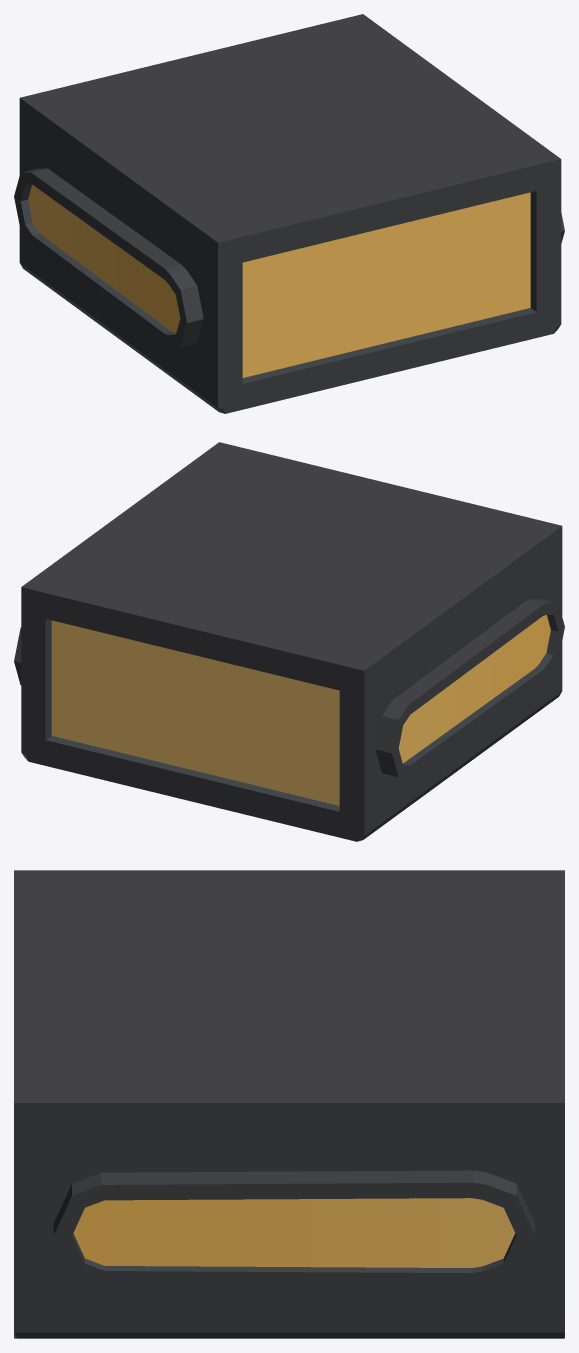
The model's file is LightCube_01.glb.
The picture shows the model from 3 angles, top to bottom: view 1: azimuth 30°, elevation 25°; view 2: azimuth 150°, elevation 25°; view 3: azimuth 270°, elevation 25°; orthographic projection. The views are drawn at different scales.
Visible parts, largest first — view 1: LightCube_01; view 2: LightCube_01; view 3: LightCube_01.
Part boxes in pixels (x1,y1,x2,y2): LightCube_01: (14, 14, 564, 413); LightCube_01: (14, 442, 564, 841); LightCube_01: (14, 870, 564, 1338).
Size of what is drawn, in the model's own units: 2.2 by 0.9627 by 2.
Materials: 1 (1 with a texture image).
